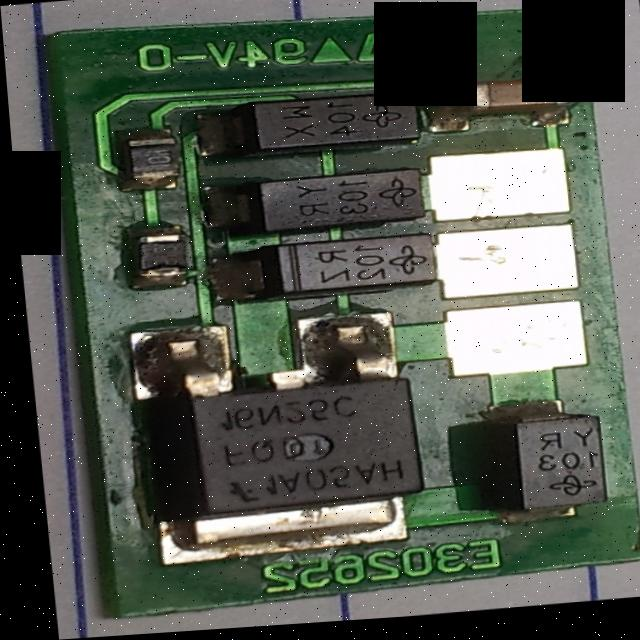IC: (121, 321, 419, 554)
capacitor 1V5: (457, 81, 578, 130)
diode -D1-: (214, 85, 421, 165), (485, 400, 610, 524), (237, 234, 444, 306), (238, 172, 425, 238)
resistor IR1: (109, 125, 185, 184), (120, 225, 181, 289)
